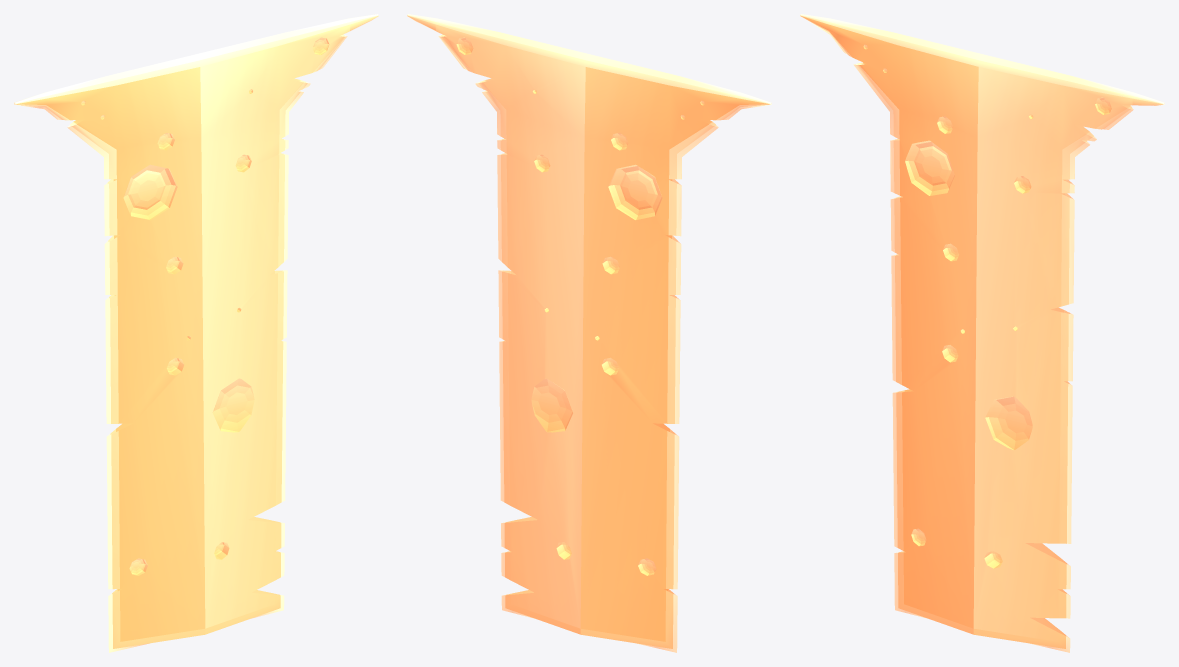
Rendered from wood_blade_bubbles_072.glb.
3 renders of one model, left to right at view 1: azimuth 30°, elevation 25°; view 2: azimuth 150°, elevation 25°; view 3: azimuth 330°, elevation 25°, orthographic.
Visible parts, largest first — view 1: wood_blade_bubbles.072; view 2: wood_blade_bubbles.072; view 3: wood_blade_bubbles.072.
Boxes of the visible parts, x1,y1,x2,y2 form: wood_blade_bubbles.072: [14, 14, 378, 652]; wood_blade_bubbles.072: [407, 14, 771, 652]; wood_blade_bubbles.072: [800, 14, 1164, 652].
Size of the model in its own units: 7.54 by 11.44 by 0.6326.
1 material, 1 textured.
